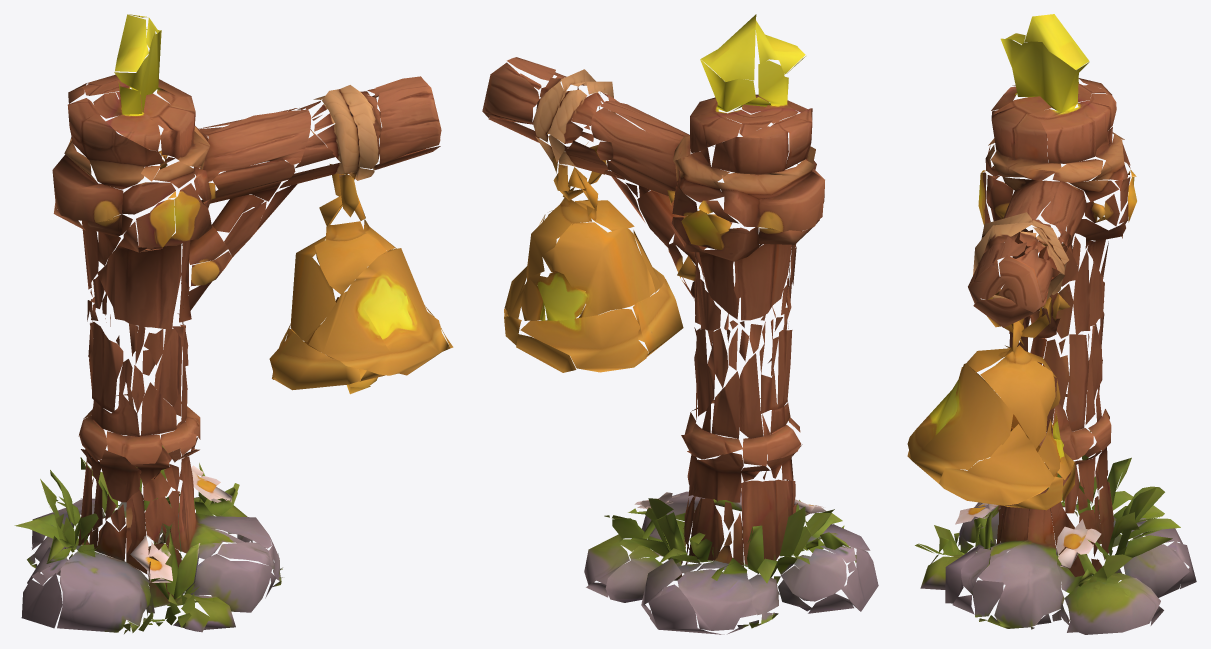
File: prop_bell_post.glb
The picture shows the model from 3 angles, left to right: view 1: azimuth 30°, elevation 25°; view 2: azimuth 150°, elevation 25°; view 3: azimuth 270°, elevation 25°; orthographic projection. The views are drawn at different scales.
Parts seen in each view (by area): view 1: Prop; view 2: Prop; view 3: Prop.
Part boxes in pixels (x1=…): Prop: x1=14, y1=14, x2=453, y2=633; Prop: x1=482, y1=14, x2=878, y2=634; Prop: x1=907, y1=14, x2=1196, y2=634.
Bounding box in the file's own units: 0.7112 × 1 × 0.4669.
1 material, 1 textured.
